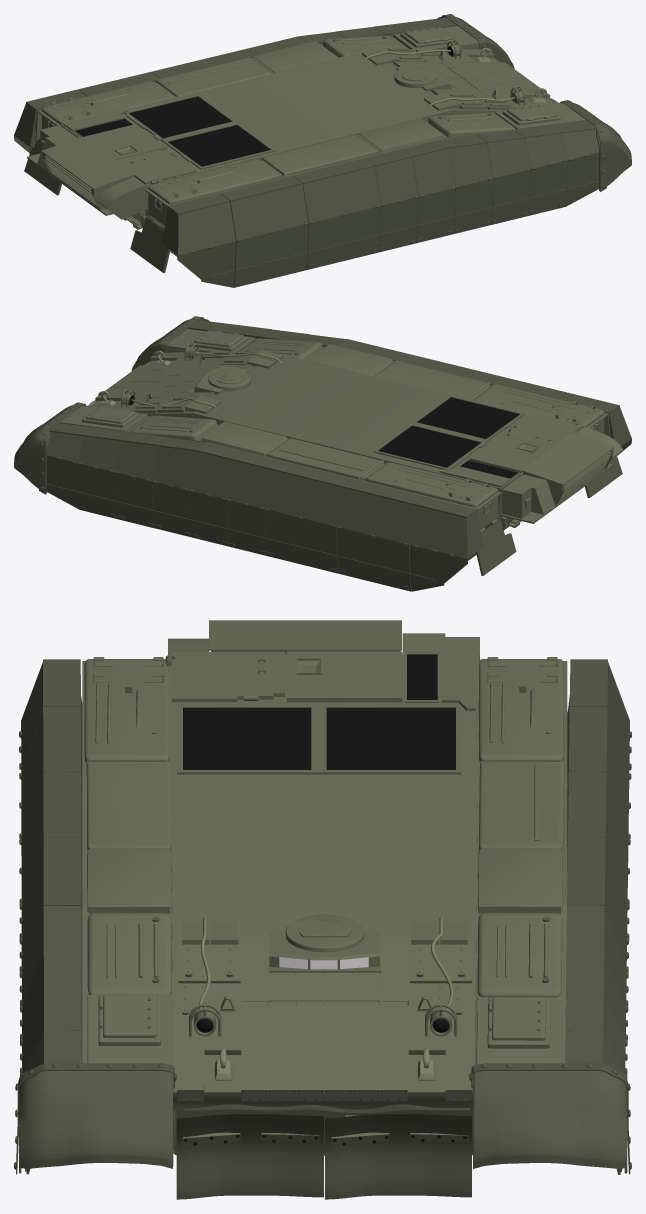
Rendered from Hull.fbx.
The picture shows the model from 3 angles, top to bottom: view 1: azimuth 30°, elevation 25°; view 2: azimuth 150°, elevation 25°; view 3: azimuth 270°, elevation 25°; orthographic projection. The views are drawn at different scales.
Parts seen in each view (by area): view 1: HULL; view 2: HULL; view 3: HULL.
Part boxes in pixels (x1,y1,x2,y2): HULL: (14,14,631,287); HULL: (14,316,631,591); HULL: (14,620,631,1199).
Size of the model in its own units: 776 by 138 by 451.
